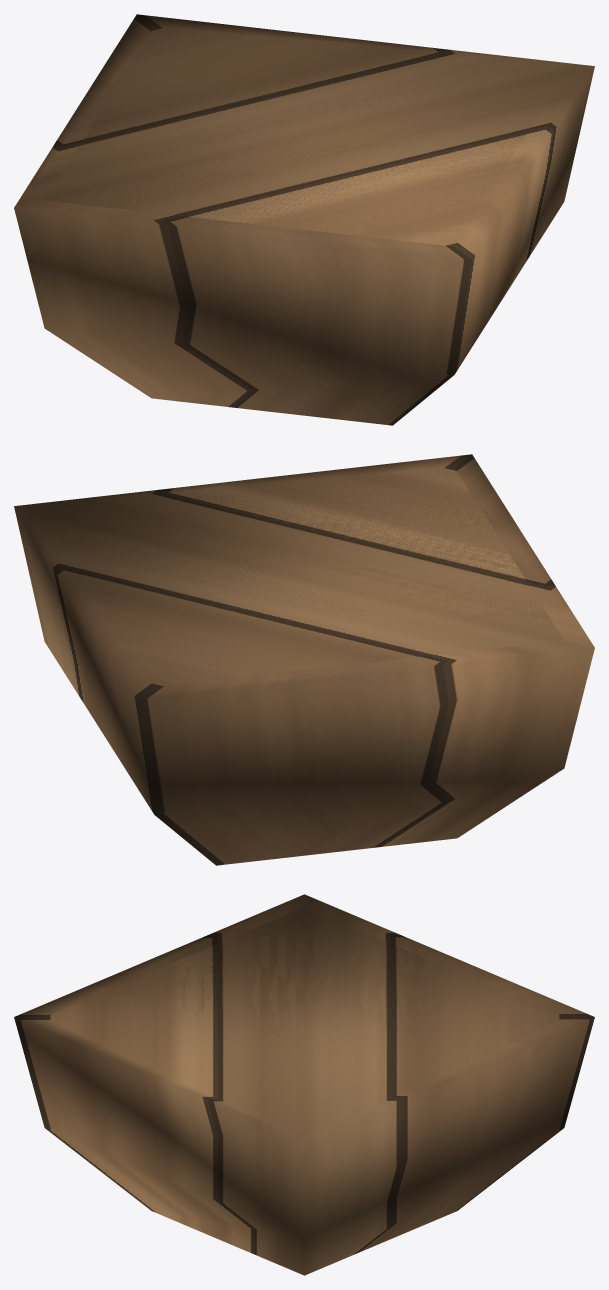
File: Bowl_Wood_1_LOD2.gltf
3 views of the same model, one above another, from view 1: azimuth 30°, elevation 25°; view 2: azimuth 150°, elevation 25°; view 3: azimuth 270°, elevation 25° (orthographic). The views are drawn at different scales.
Visible parts, largest first — view 1: Bowl_Wood_1_LOD2; view 2: Bowl_Wood_1_LOD2; view 3: Bowl_Wood_1_LOD2.
Boxes of the visible parts, <box> form: Bowl_Wood_1_LOD2: <box>14,14,594,425</box>; Bowl_Wood_1_LOD2: <box>14,454,594,865</box>; Bowl_Wood_1_LOD2: <box>14,894,594,1275</box>.
Size of the model in its own units: 0.19 by 0.07 by 0.19.
Materials: 1 (1 with a texture image).
